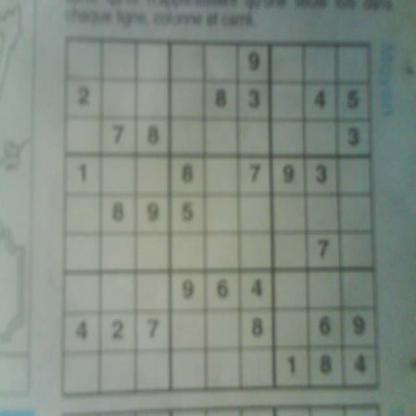sudoku: (56, 29, 384, 402)
